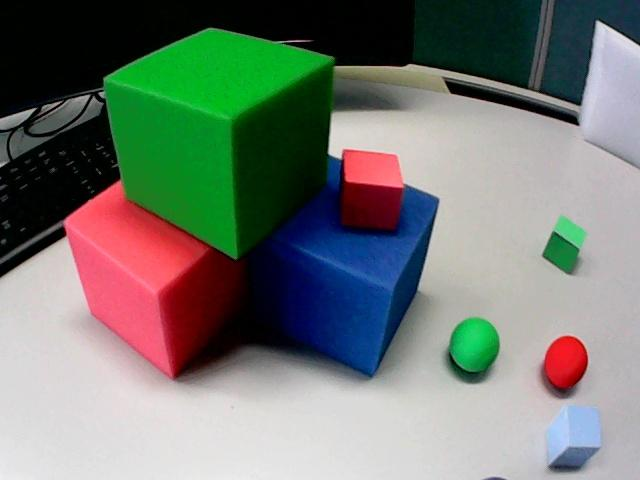blue_block: (249, 158, 438, 375), (547, 406, 600, 467), (484, 477, 504, 479)
red_block: (64, 182, 247, 377), (341, 150, 403, 229)
